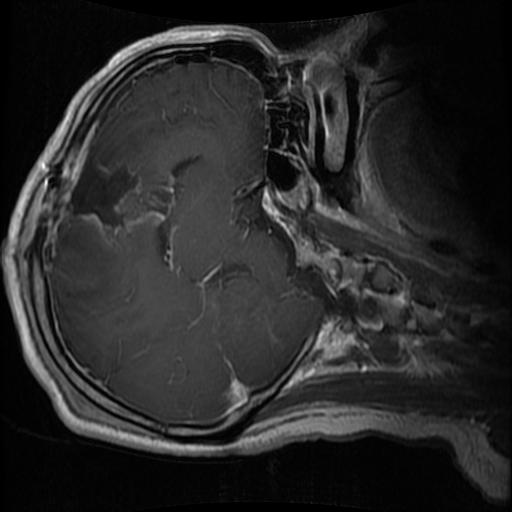glioma: (68, 150, 203, 273)
